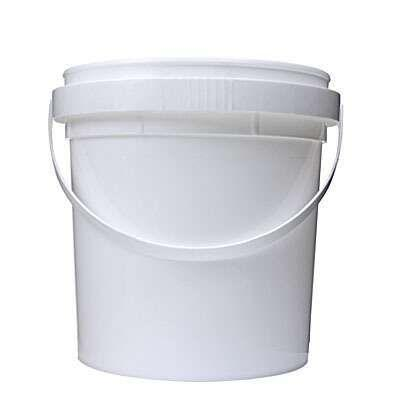HDPE: (48, 55, 345, 381)
